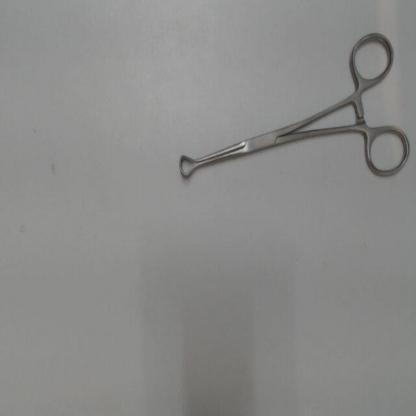Babcock Tissue Forceps: (176, 27, 414, 183)
